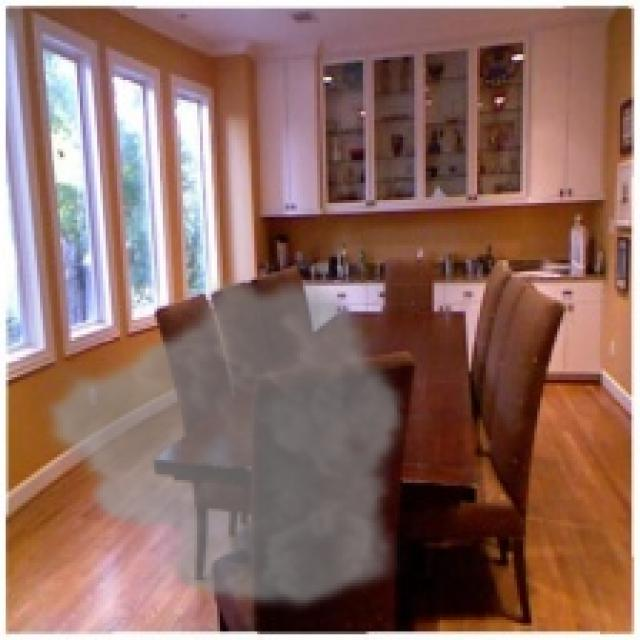smoke: (37, 269, 409, 614)
